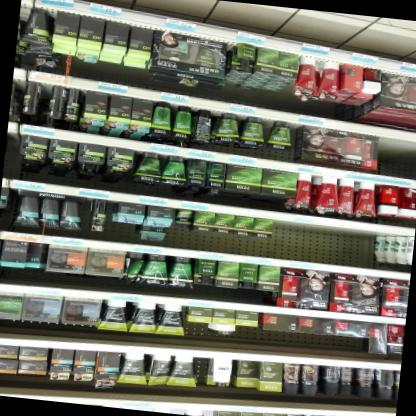empty_space: (375, 135, 416, 180), (270, 220, 296, 260), (293, 222, 318, 263), (375, 231, 399, 271), (316, 224, 338, 265), (355, 229, 377, 269), (336, 227, 357, 267)
